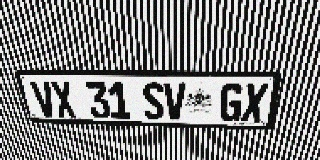1: (106, 82, 131, 119)
3: (85, 82, 111, 118)
G: (219, 83, 245, 122)
S: (142, 82, 164, 120)
V: (30, 81, 58, 117), (164, 82, 186, 120)
X: (240, 83, 269, 122), (50, 81, 77, 118)
